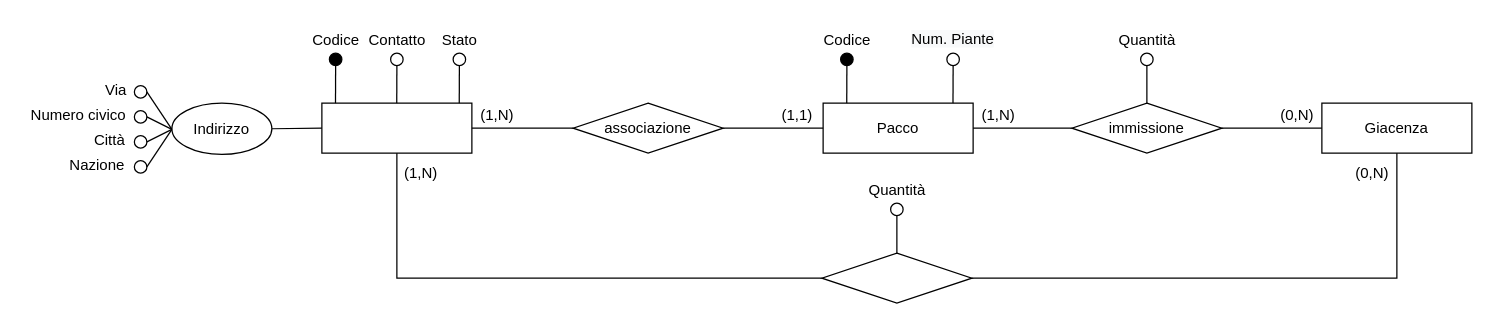
Some shapes in this 1494 by 325 pixel diagram are drawn without their labels. The box of each missing label's shape, as (x1, y1, x2, y2) in pixels:
inizializzazione: (821, 252, 972, 303)
Ordine: (321, 102, 472, 153)
